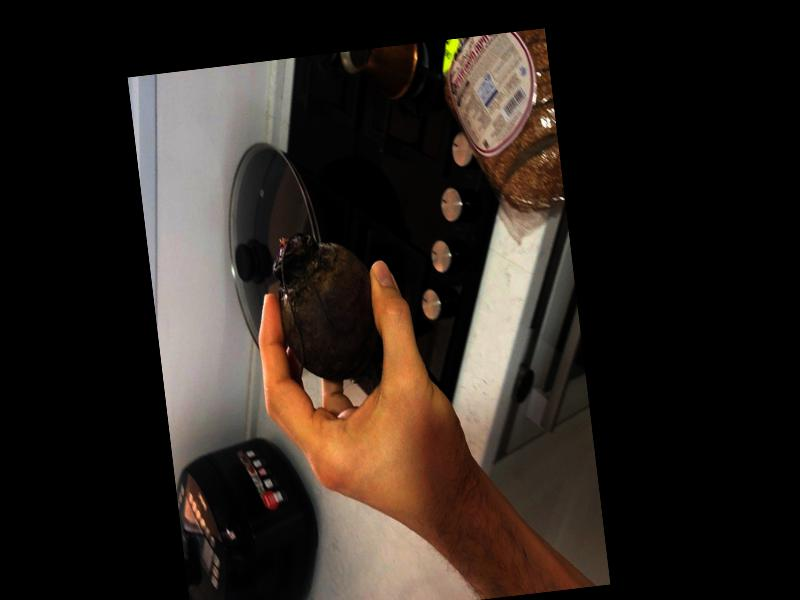Beet: (270, 225, 383, 395)
